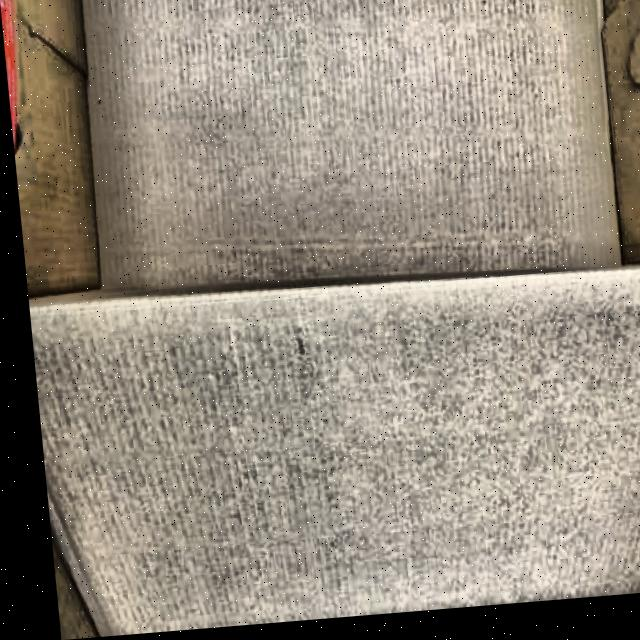cardboard: (30, 246, 640, 640)
